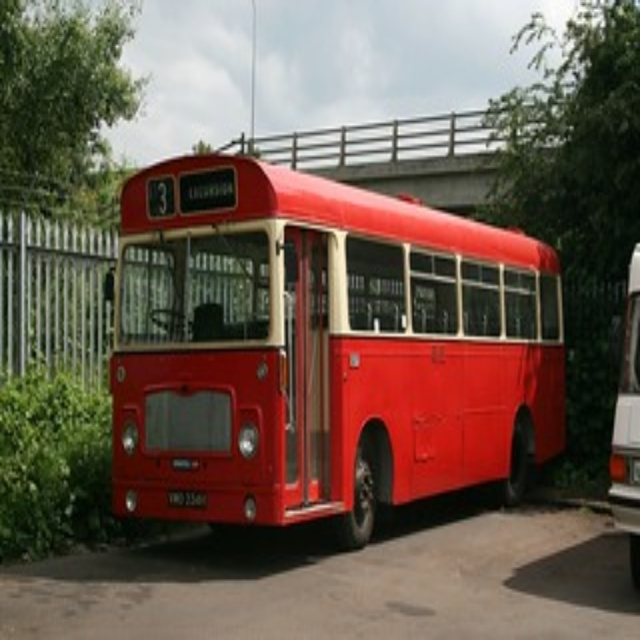Bus: (106, 150, 566, 550)
